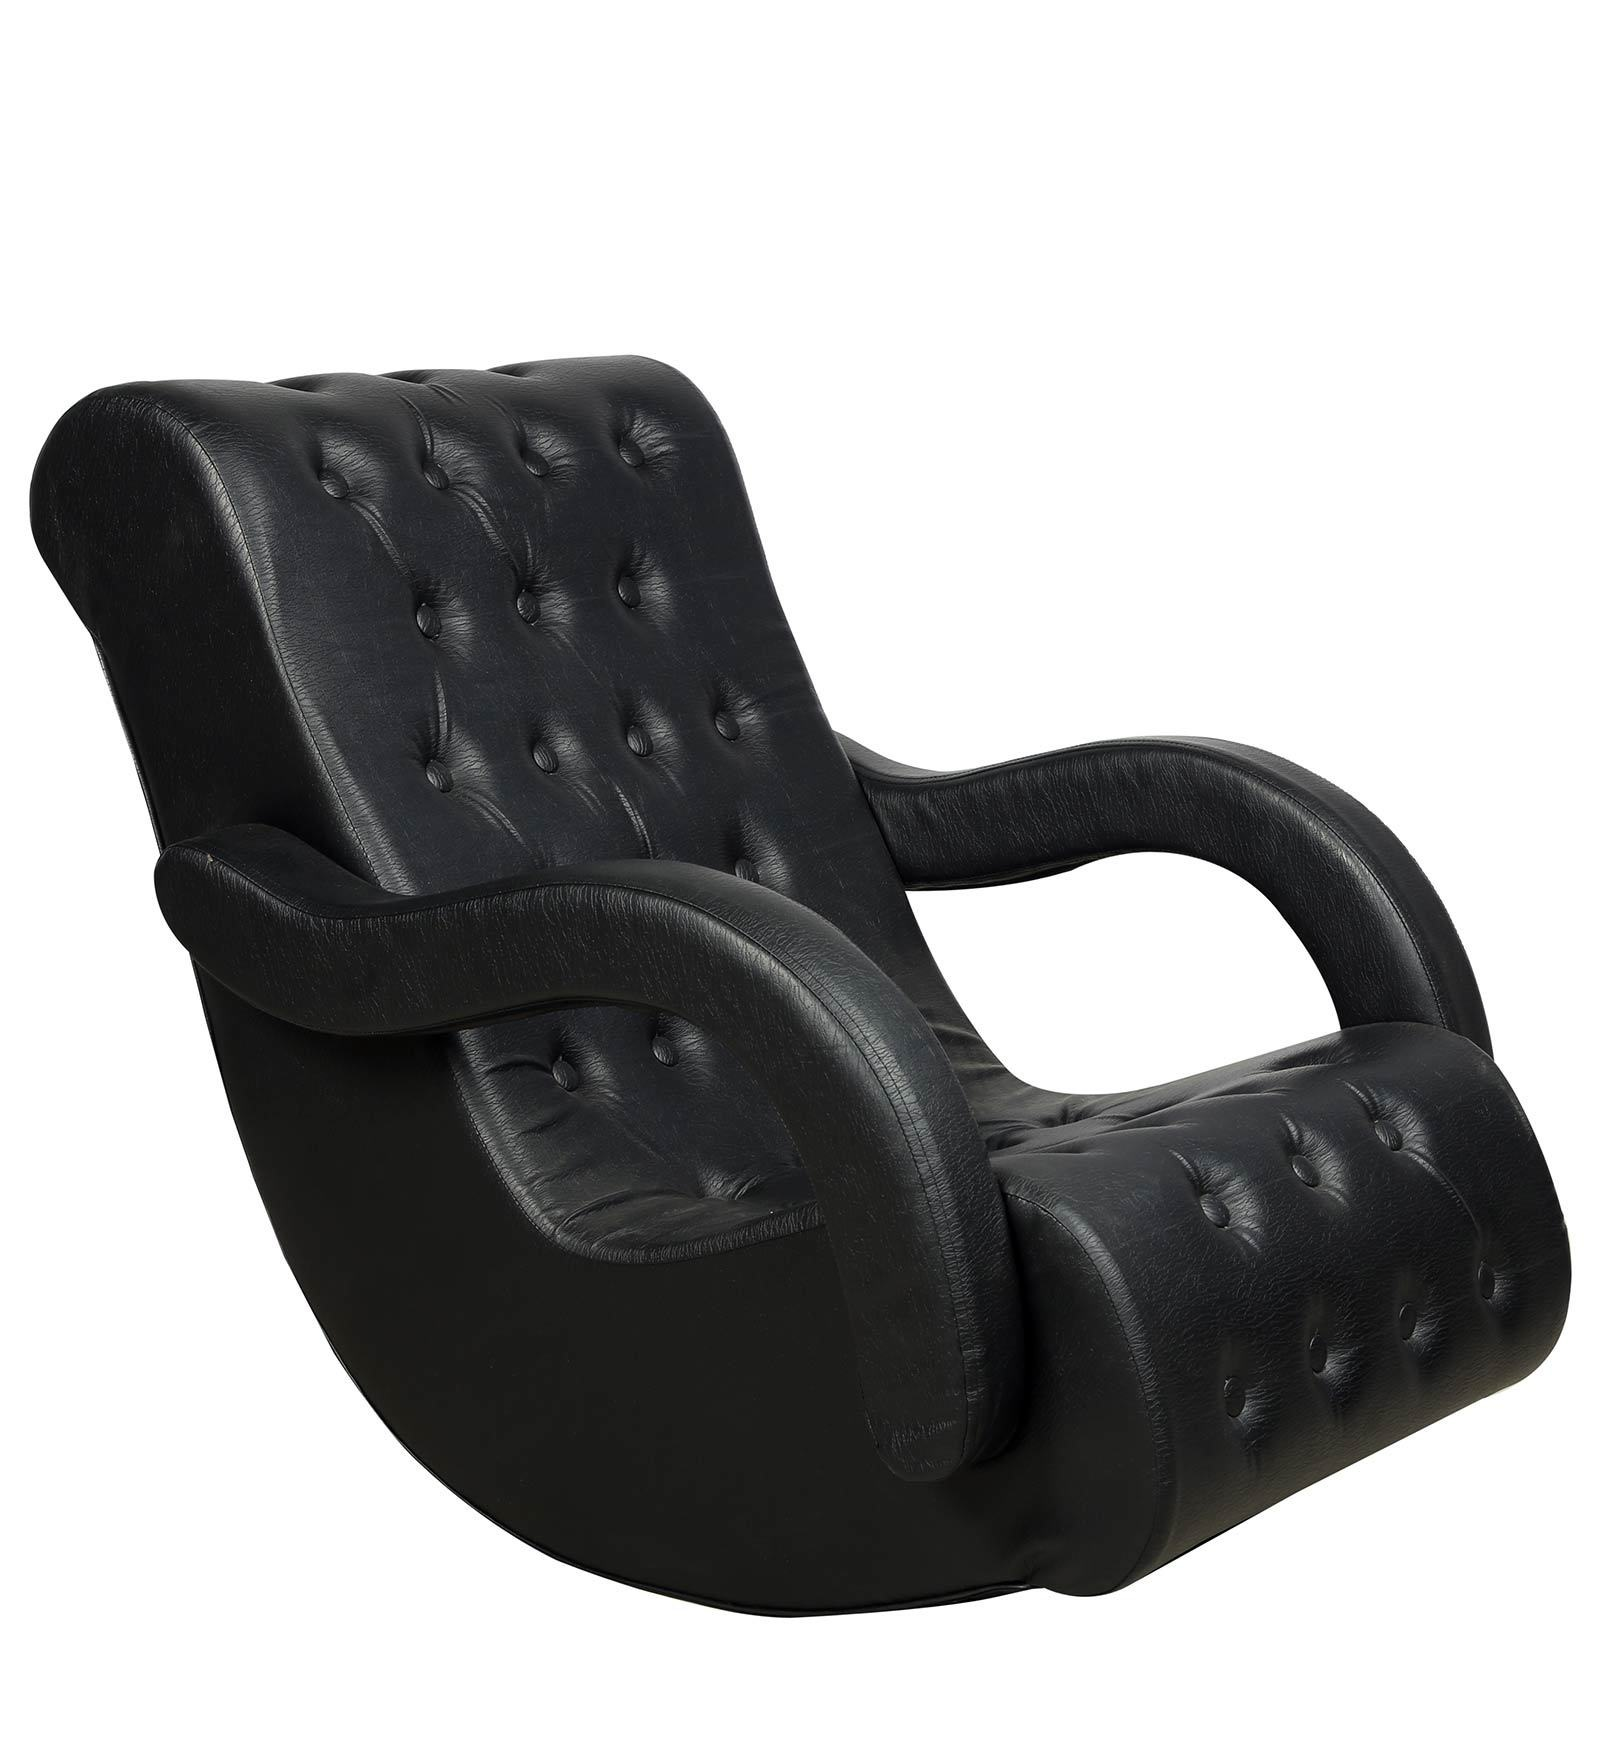Alex Low Seating Rocking Chair with Arm Rest in Black Colour by Parin: (17, 320, 1600, 1647)
